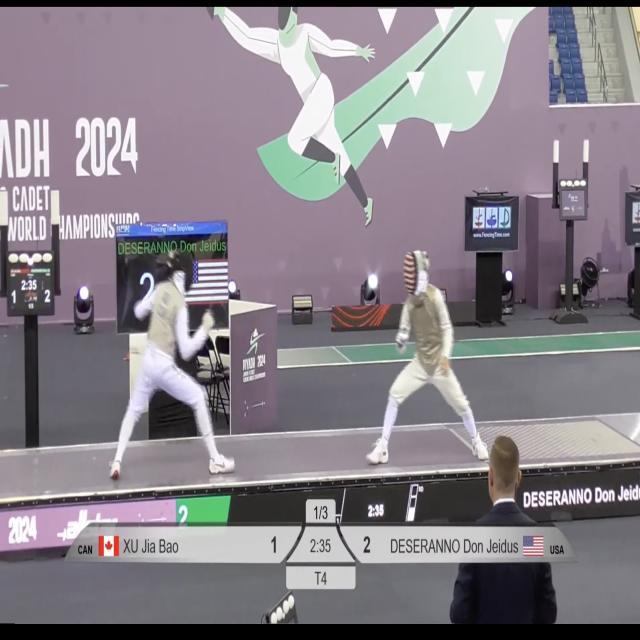fencer: (101, 240, 242, 480), (366, 232, 493, 467)
overlayLeft: (63, 524, 238, 562)
overlayRight: (381, 525, 577, 560)
scoreLeft: (255, 525, 305, 561)
scoreRight: (336, 522, 378, 562)
